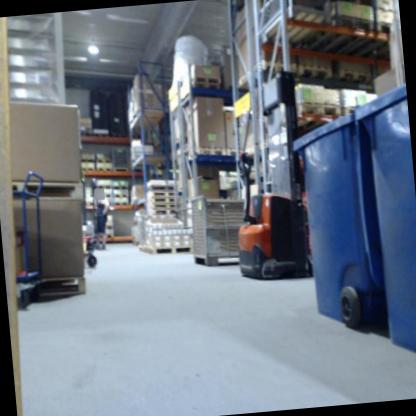pallet: (8, 173, 87, 208), (236, 57, 302, 91), (35, 275, 91, 302), (292, 99, 341, 127), (327, 11, 373, 33), (298, 62, 334, 85), (335, 67, 372, 87), (186, 144, 227, 161), (148, 243, 193, 256), (191, 79, 222, 92), (192, 72, 222, 85), (142, 201, 175, 210), (146, 193, 175, 203), (142, 207, 174, 216), (146, 181, 174, 190), (145, 188, 175, 196), (377, 23, 390, 35), (227, 148, 241, 158), (112, 131, 127, 139), (96, 157, 113, 164), (96, 166, 112, 173), (113, 184, 129, 191), (93, 132, 110, 138), (113, 192, 129, 198), (114, 200, 130, 206), (97, 184, 112, 190), (81, 158, 95, 164), (82, 166, 96, 172), (80, 131, 94, 137), (143, 246, 150, 253)
pallet_truck: (222, 63, 316, 284), (79, 167, 109, 274)
stillage: (186, 192, 250, 268), (256, 0, 334, 45), (110, 147, 130, 171)
